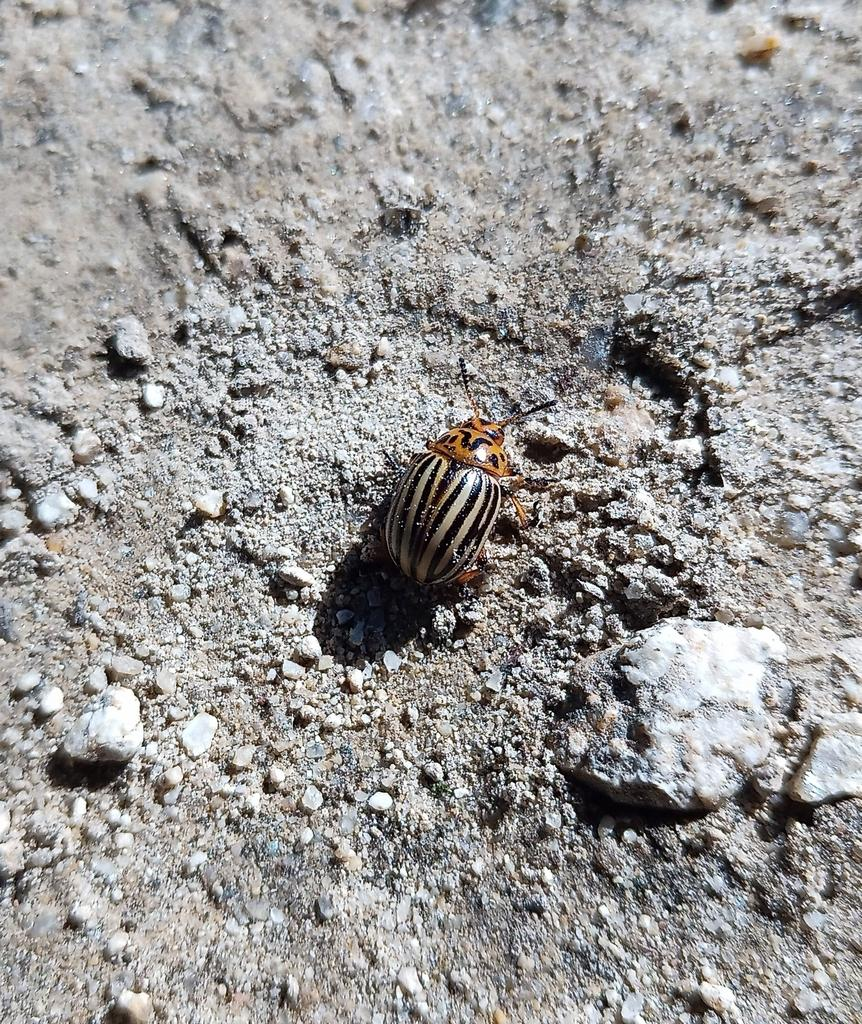potato_beetle: (331, 329, 592, 648)
